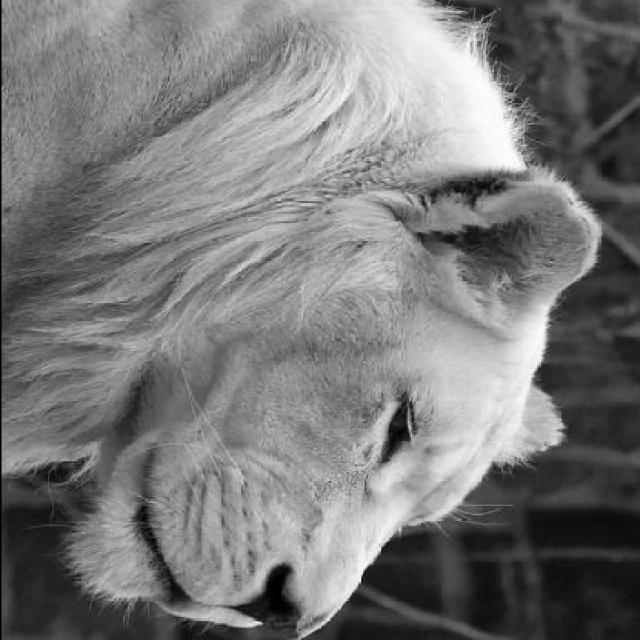Lion: (0, 12, 623, 638)
